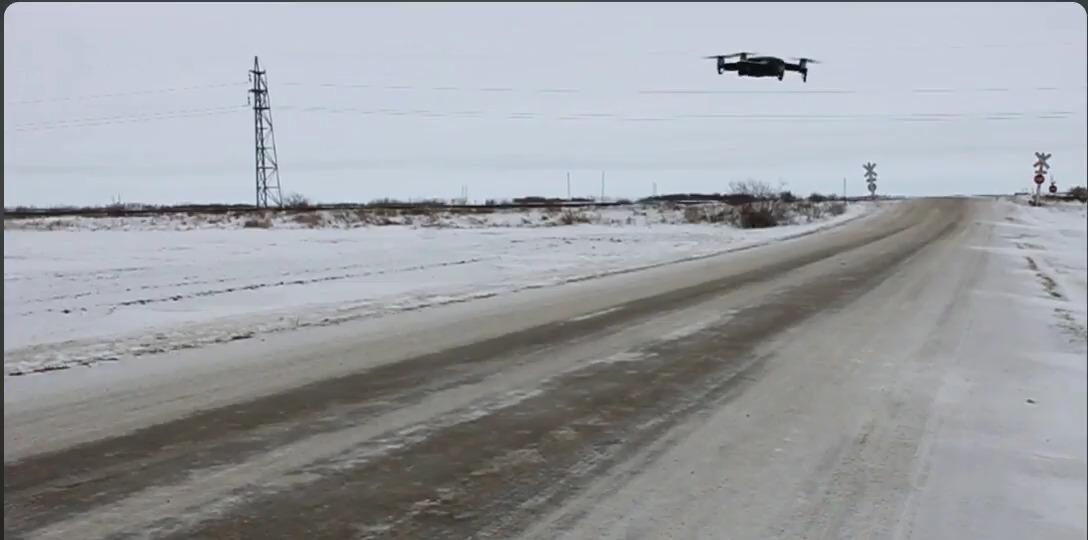dr: (697, 42, 830, 87)
